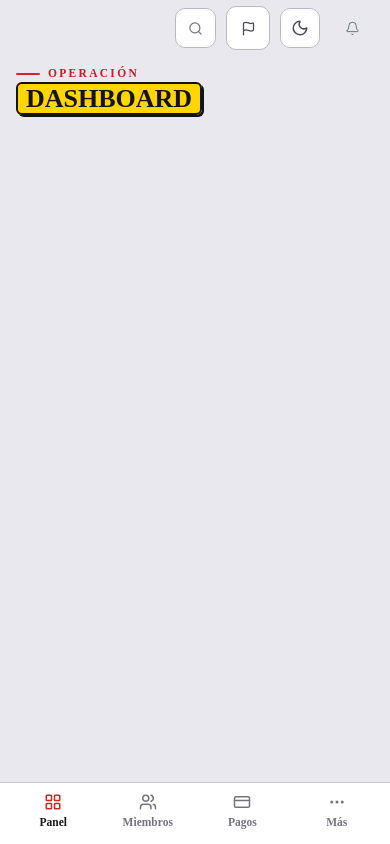
Test: AppShell › replaces the admin hamburger with the tab bar's Más entry
The image size is (390, 844).
"Más" opens the SAME drawer, so nothing became unreachable.
Click the button with aria-label "Más secciones". click: (337,812)
box: [292,789,382,834]
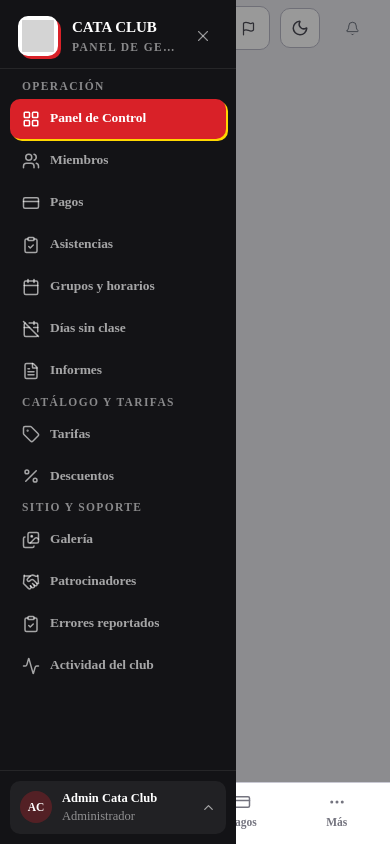
expect the button named "Cerrar menú" is shown: met, box [188,21,218,51]
